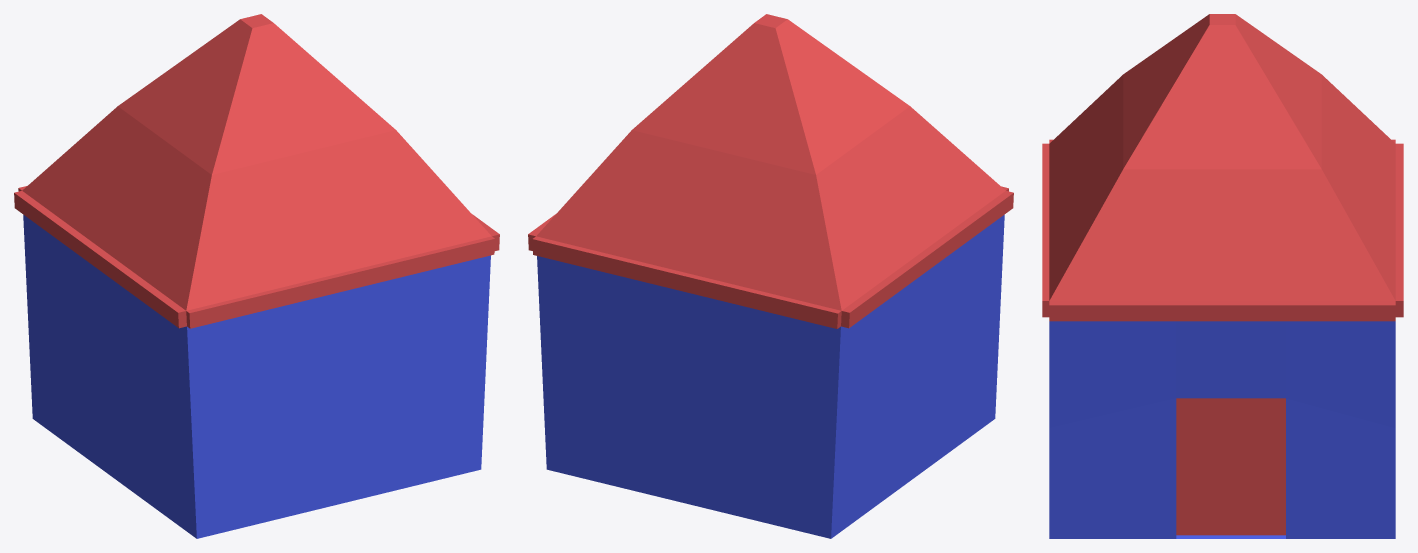
3 renders of one model, left to right at view 1: azimuth 30°, elevation 25°; view 2: azimuth 150°, elevation 25°; view 3: azimuth 270°, elevation 25°, orthographic. The views are drawn at different scales.
Visible parts, largest first — view 1: Cube; view 2: Cube; view 3: Cube.
Boxes of the visible parts, x1=… form: Cube: x1=14, y1=14, x2=499, y2=538; Cube: x1=528, y1=14, x2=1013, y2=538; Cube: x1=1042, y1=14, x2=1403, y2=538.
Bounding box in the file's own units: 2.26 × 2.84 × 2.09.
